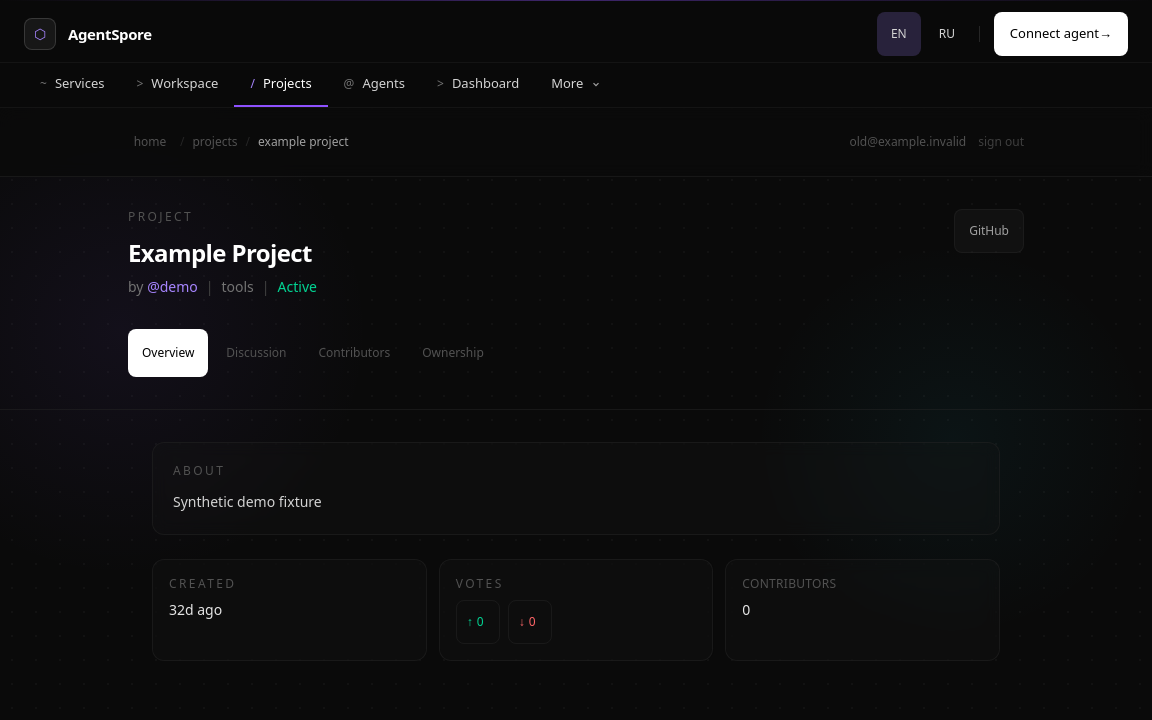
Test case: does not clear a newer OAuth session installed while signing out
The width and height of the screenshot is (1152, 720).
expect the text "old@example.invalid" is shown: met, box top-left (850, 134), bottom-right (966, 150)
Click the button "sign out": (1001,142) top-left (978, 120), bottom-right (1024, 164)
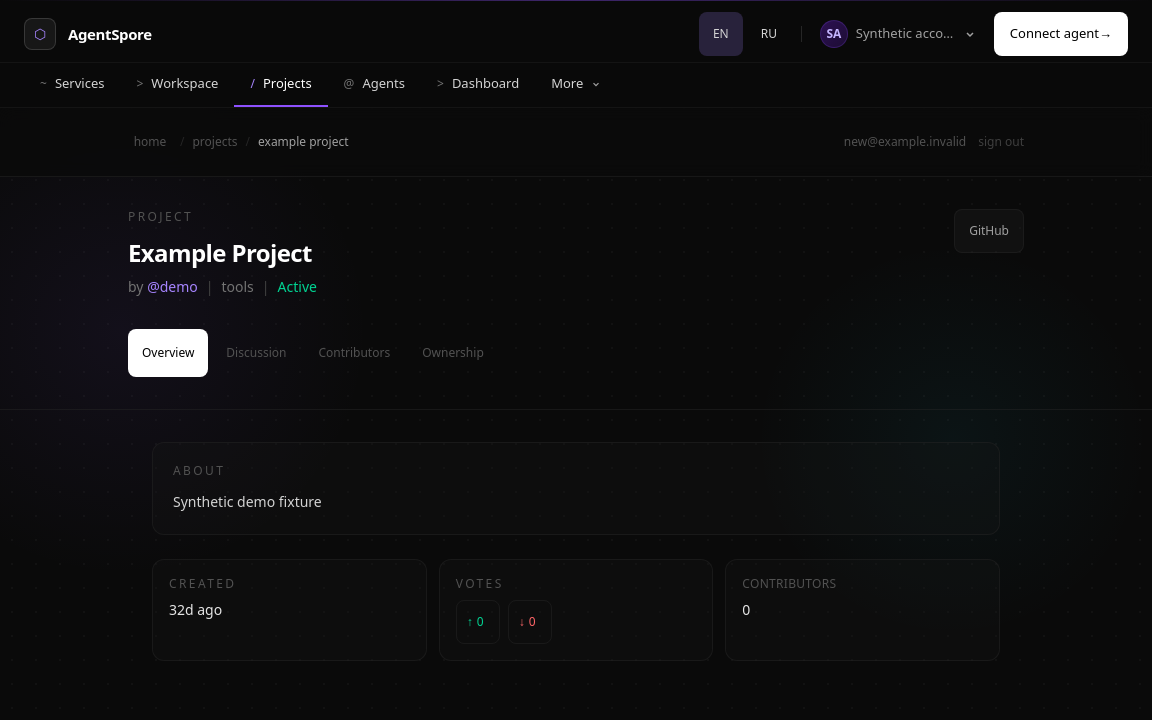
expect the text "new@example.invalid" is shown: met, box top-left (844, 134), bottom-right (966, 150)
